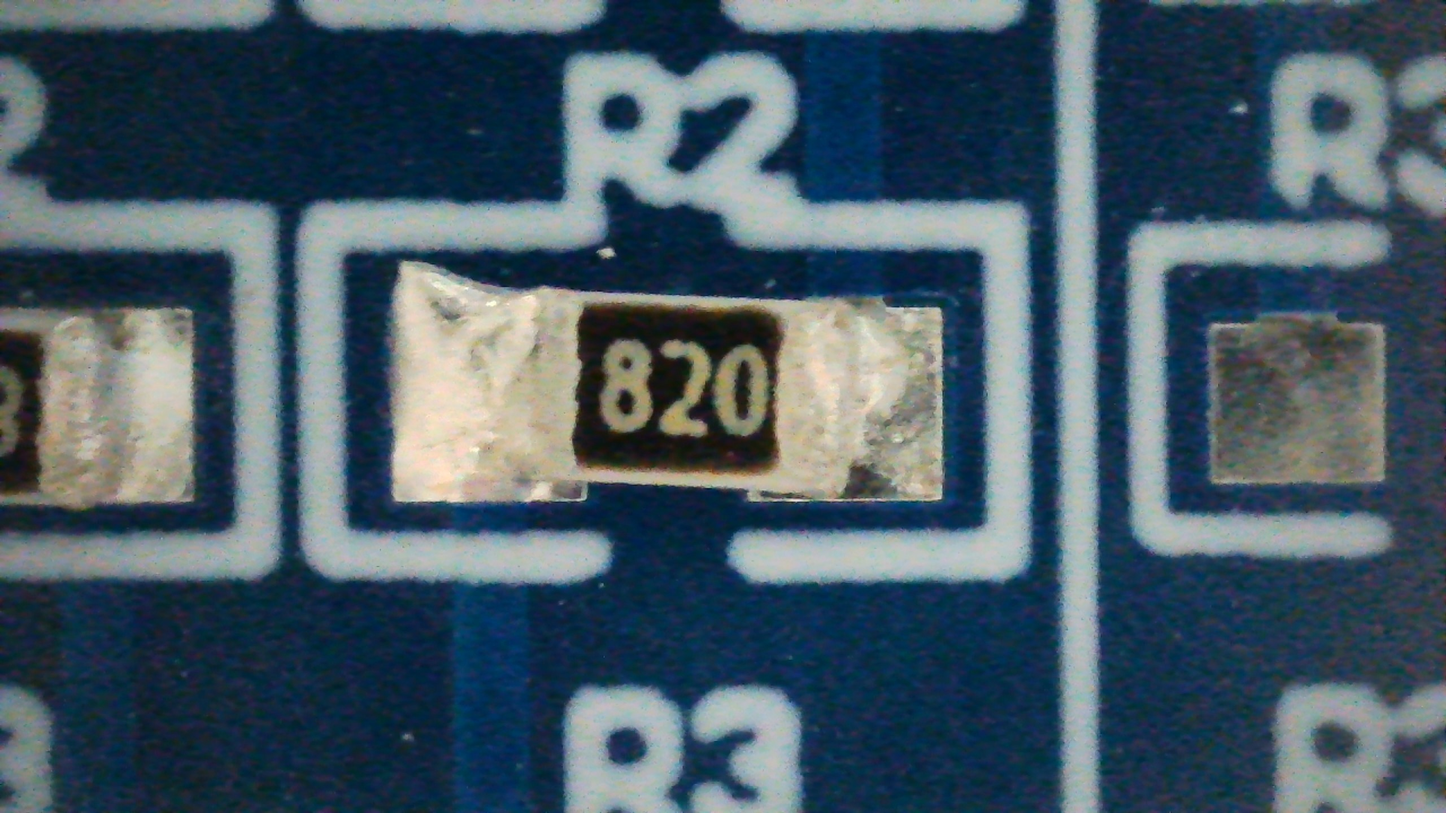NG: (393, 264, 940, 501)
